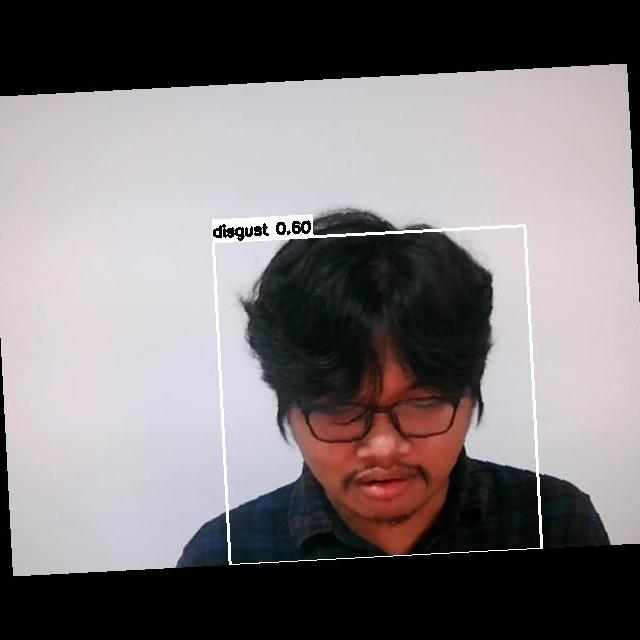Fear: (275, 360, 478, 520)
